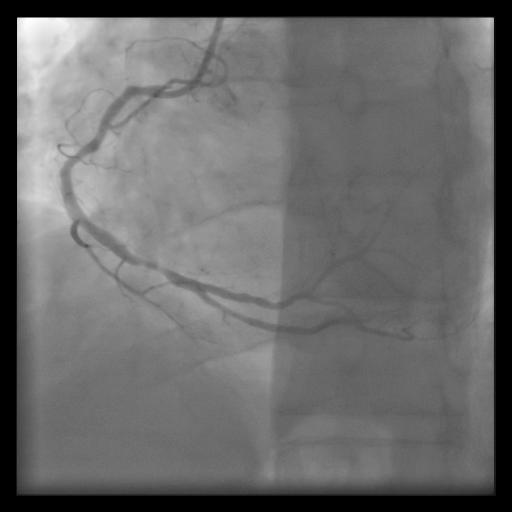Stenosis: (132, 249, 168, 285)
